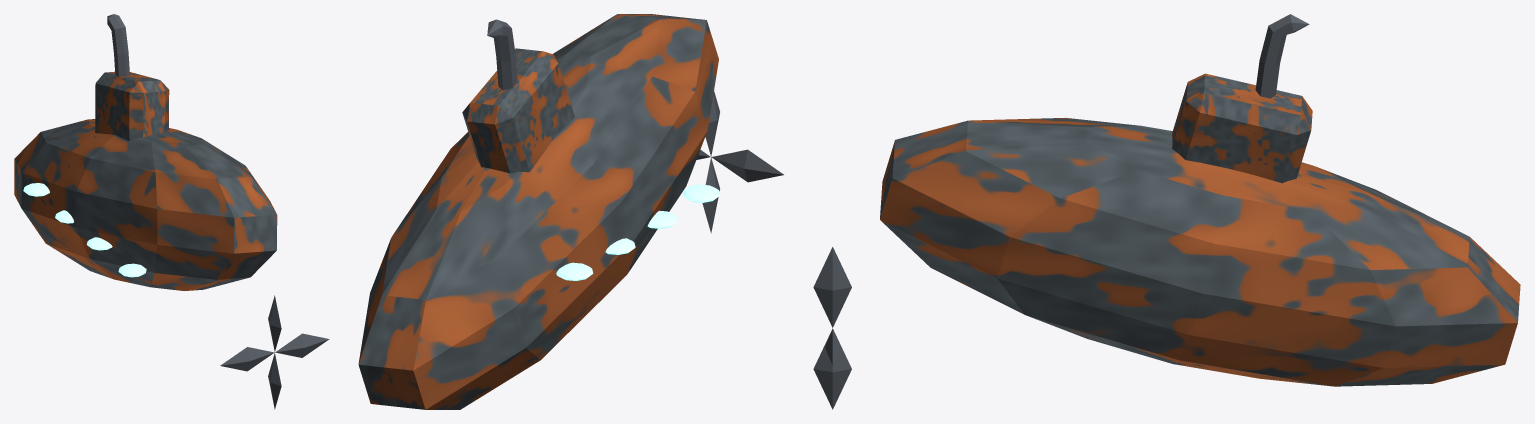
Rendered from SubmarineWreck.glb.
3 renders of one model, left to right at view 1: azimuth 30°, elevation 25°; view 2: azimuth 150°, elevation 25°; view 3: azimuth 270°, elevation 25°, orthographic. The views are drawn at different scales.
Visible parts, largest first — view 1: SubmarineWreck, SubmarineWreck_Glow; view 2: SubmarineWreck, SubmarineWreck_Glow; view 3: SubmarineWreck.
Boxes of the visible parts, x1,y1,x2,y2 form: SubmarineWreck: [14, 14, 329, 409]; SubmarineWreck_Glow: [23, 183, 146, 277]; SubmarineWreck: [358, 14, 783, 409]; SubmarineWreck_Glow: [556, 184, 720, 280]; SubmarineWreck: [813, 14, 1520, 409].
Bounding box in the file's own units: 1.91 × 3.39 × 5.48.
2 materials, 1 textured.
